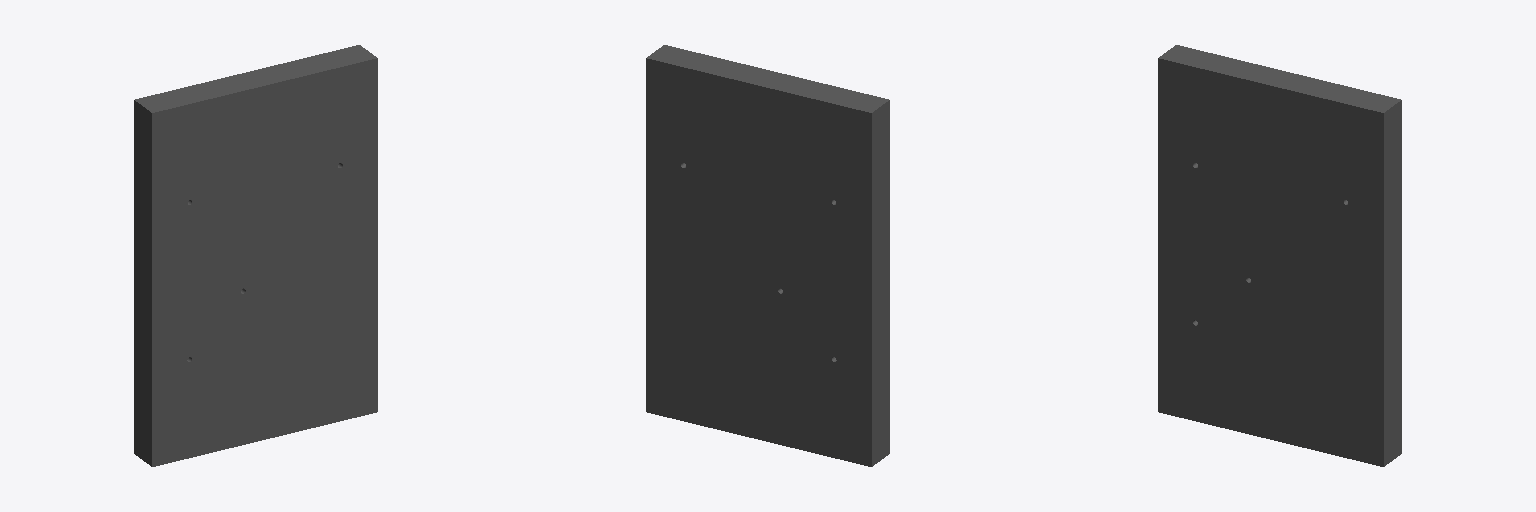
File: rect3.obj
3 views of the same model, side by side, from view 1: azimuth 30°, elevation 25°; view 2: azimuth 150°, elevation 25°; view 3: azimuth 330°, elevation 25° (orthographic).
Parts seen in each view (by area): view 1: StainlessSteel_rect3; view 2: StainlessSteel_rect3; view 3: StainlessSteel_rect3.
Boxes of the visible parts, x1=… form: StainlessSteel_rect3: x1=134, y1=45, x2=377, y2=466; StainlessSteel_rect3: x1=646, y1=45, x2=889, y2=466; StainlessSteel_rect3: x1=1158, y1=45, x2=1401, y2=466.
Size of the model in its own units: 0.09 by 0.135 by 0.0127.